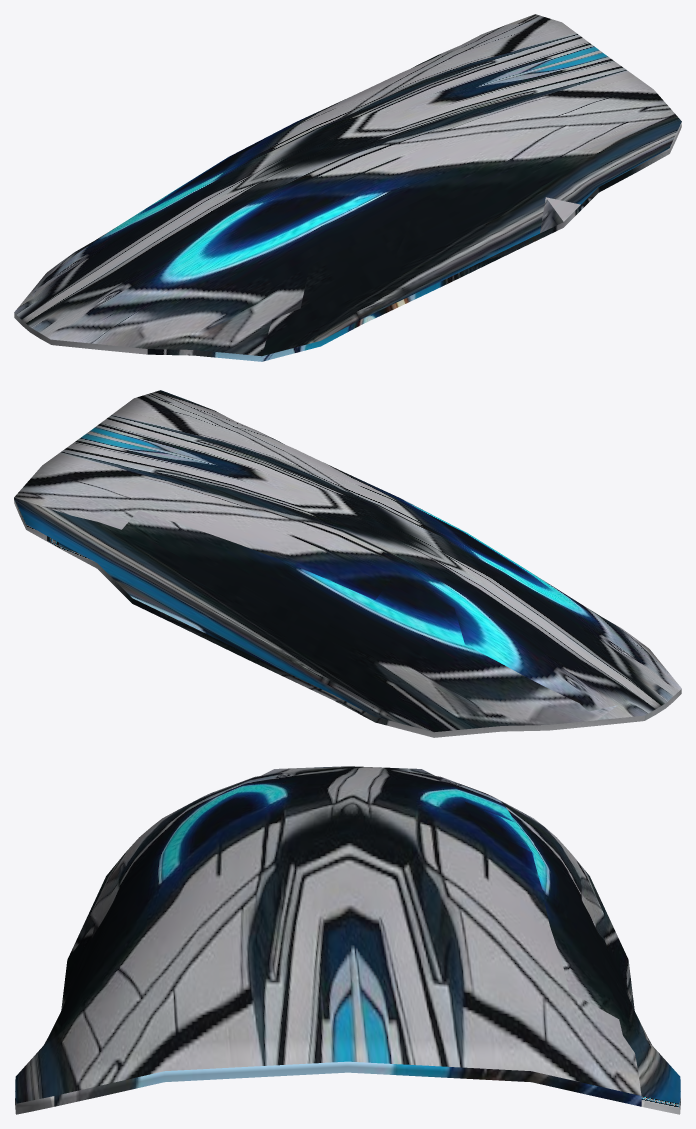
File: CarroArriba.obj
The picture shows the model from 3 angles, top to bottom: view 1: azimuth 30°, elevation 25°; view 2: azimuth 150°, elevation 25°; view 3: azimuth 270°, elevation 25°; orthographic projection. The views are drawn at different scales.
Visible parts, largest first — view 1: Cube.045; view 2: Cube.045; view 3: Cube.045.
Part boxes in pixels (box(x1,y1,x2,y2)): Cube.045: box(14, 14, 681, 361); Cube.045: box(14, 390, 681, 737); Cube.045: box(15, 766, 680, 1114).
Bounding box in the file's own units: 3.02 × 0.7768 × 1.5.
